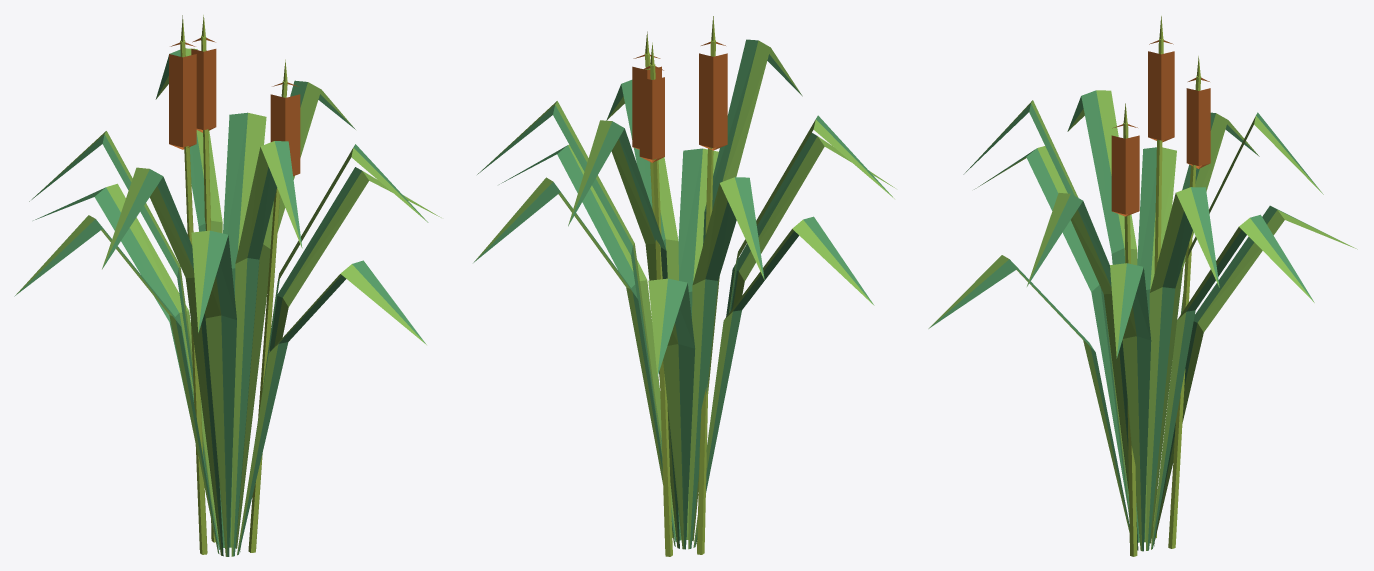
The model's file is reeds.glb.
The picture shows the model from 3 angles, left to right: view 1: azimuth 30°, elevation 25°; view 2: azimuth 150°, elevation 25°; view 3: azimuth 270°, elevation 25°; orthographic projection. The views are drawn at different scales.
Parts seen in each view (by area): view 1: reeds; view 2: reeds; view 3: reeds.
Boxes of the visible parts, box(x1,y1,x2,y2) form: reeds: box(14, 15, 441, 556); reeds: box(473, 16, 895, 556); reeds: box(928, 16, 1357, 556).
Bounding box in the file's own units: 0.546 × 0.7 × 0.5318.
